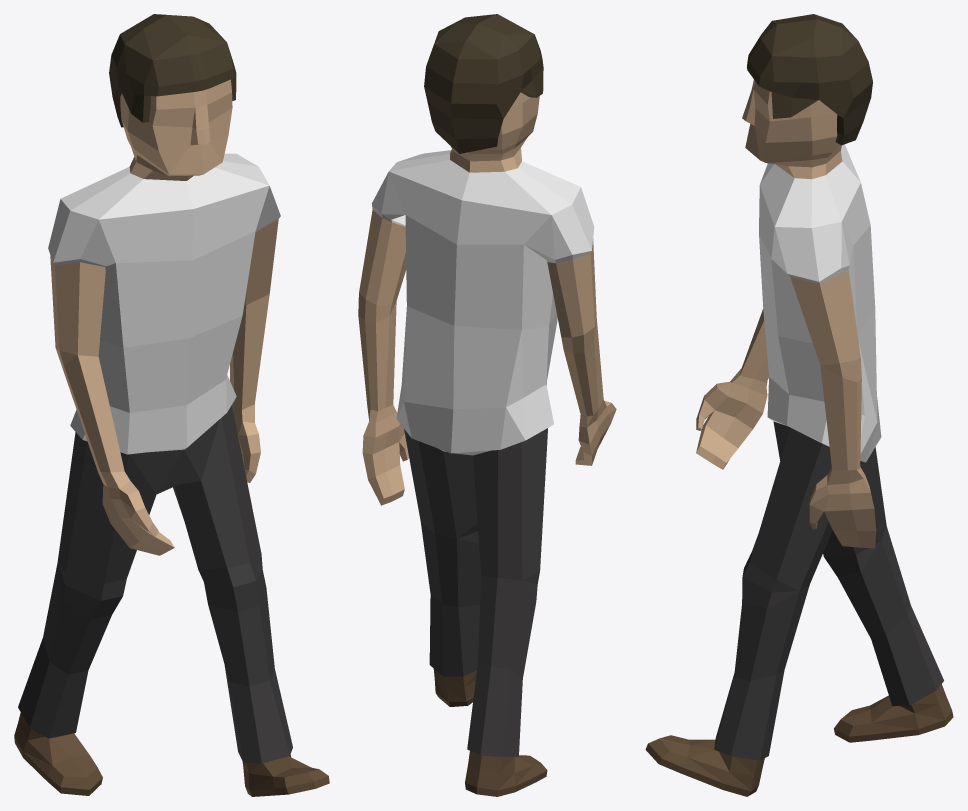
The model's file is 54 People_Male_1.fbx.
The picture shows the model from 3 angles, left to right: view 1: azimuth 30°, elevation 25°; view 2: azimuth 150°, elevation 25°; view 3: azimuth 270°, elevation 25°; orthographic projection. The views are drawn at different scales.
Parts seen in each view (by area): view 1: Male_Hairstyle44; view 2: Male_Hairstyle44; view 3: Male_Hairstyle44.
Boxes of the visible parts, left/top/right/bottom form: Male_Hairstyle44: left=14, top=14, right=329, bottom=796; Male_Hairstyle44: left=358, top=14, right=616, bottom=796; Male_Hairstyle44: left=645, top=14, right=953, bottom=796.
Size of the model in its own units: 11.82 by 37.94 by 14.17.
